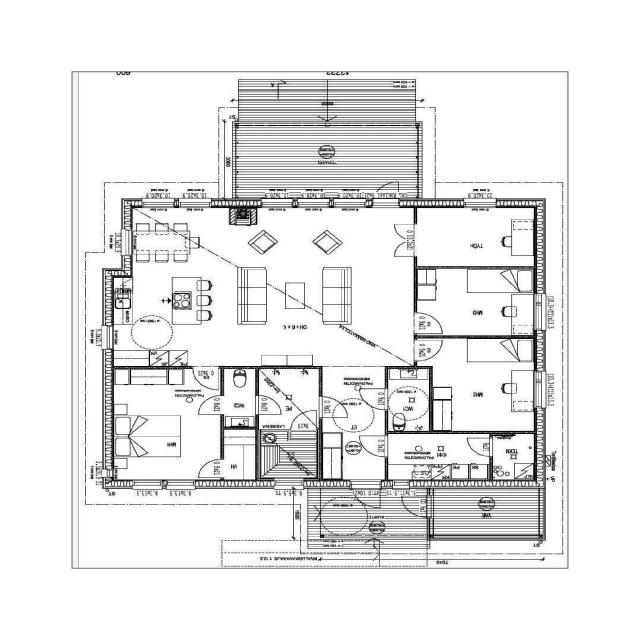door: (392, 222, 418, 258), (188, 364, 222, 391), (412, 335, 446, 362), (412, 310, 446, 335), (374, 179, 403, 206), (349, 479, 382, 502), (358, 435, 389, 459), (466, 433, 494, 458), (196, 394, 226, 416), (262, 187, 293, 208), (318, 395, 344, 418), (196, 457, 223, 479), (255, 394, 282, 416), (402, 494, 424, 518), (290, 413, 318, 431), (272, 480, 298, 495)
window: (530, 367, 545, 412), (297, 196, 332, 212), (330, 197, 369, 211), (531, 292, 544, 334), (313, 236, 342, 254), (461, 198, 499, 210), (130, 478, 165, 491), (162, 478, 196, 491), (176, 198, 215, 209), (140, 198, 178, 208), (270, 480, 300, 492), (102, 325, 114, 351)
zone: (112, 207, 417, 364), (113, 365, 222, 482), (428, 338, 536, 433), (414, 269, 534, 336), (414, 207, 538, 268), (257, 368, 322, 429), (387, 367, 431, 433), (261, 429, 320, 477), (492, 433, 536, 483), (222, 368, 258, 428), (221, 428, 258, 484)
